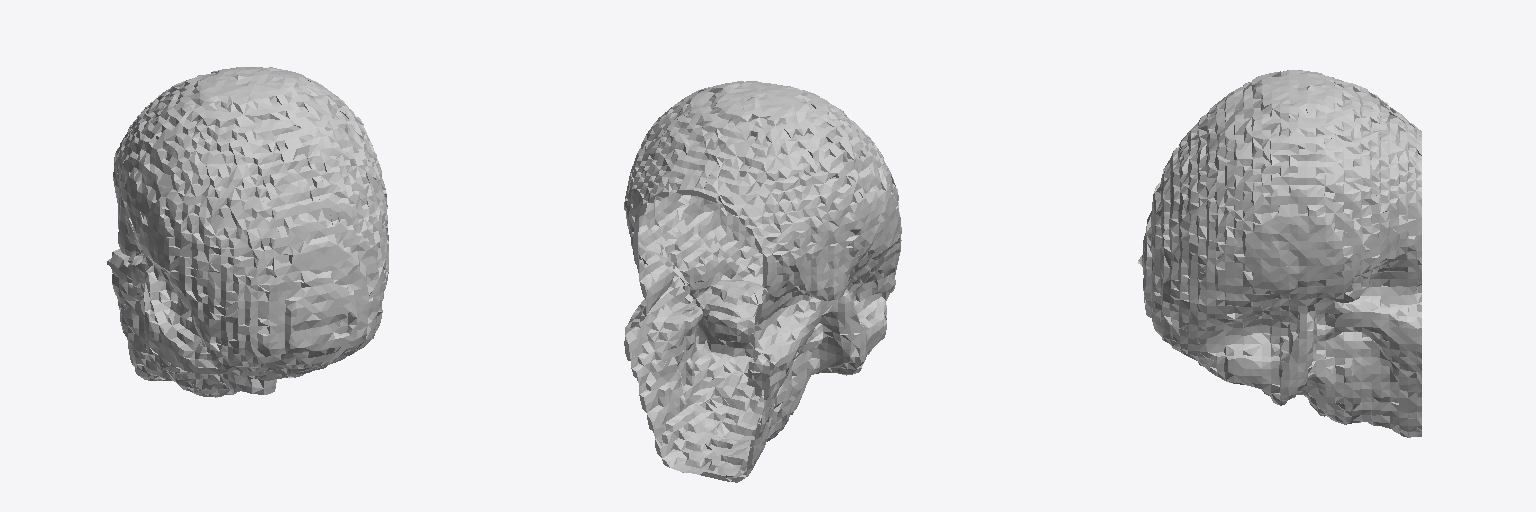
The model's file is 321050-skull_Clustering_90pct.obj.
The picture shows the model from 3 angles: view 1: azimuth 30°, elevation 25°; view 2: azimuth 150°, elevation 25°; view 3: azimuth 270°, elevation 25°; orthographic projection.
Size of the model in its own units: 0.7096 by 0.9999 by 0.7556.